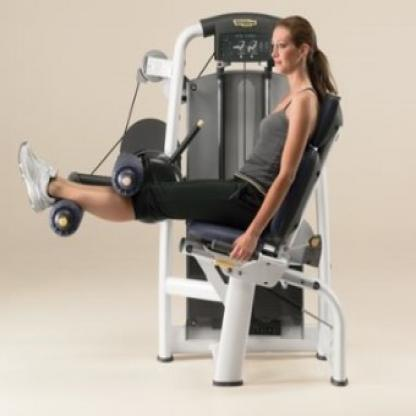leg extension: (14, 7, 373, 401)
